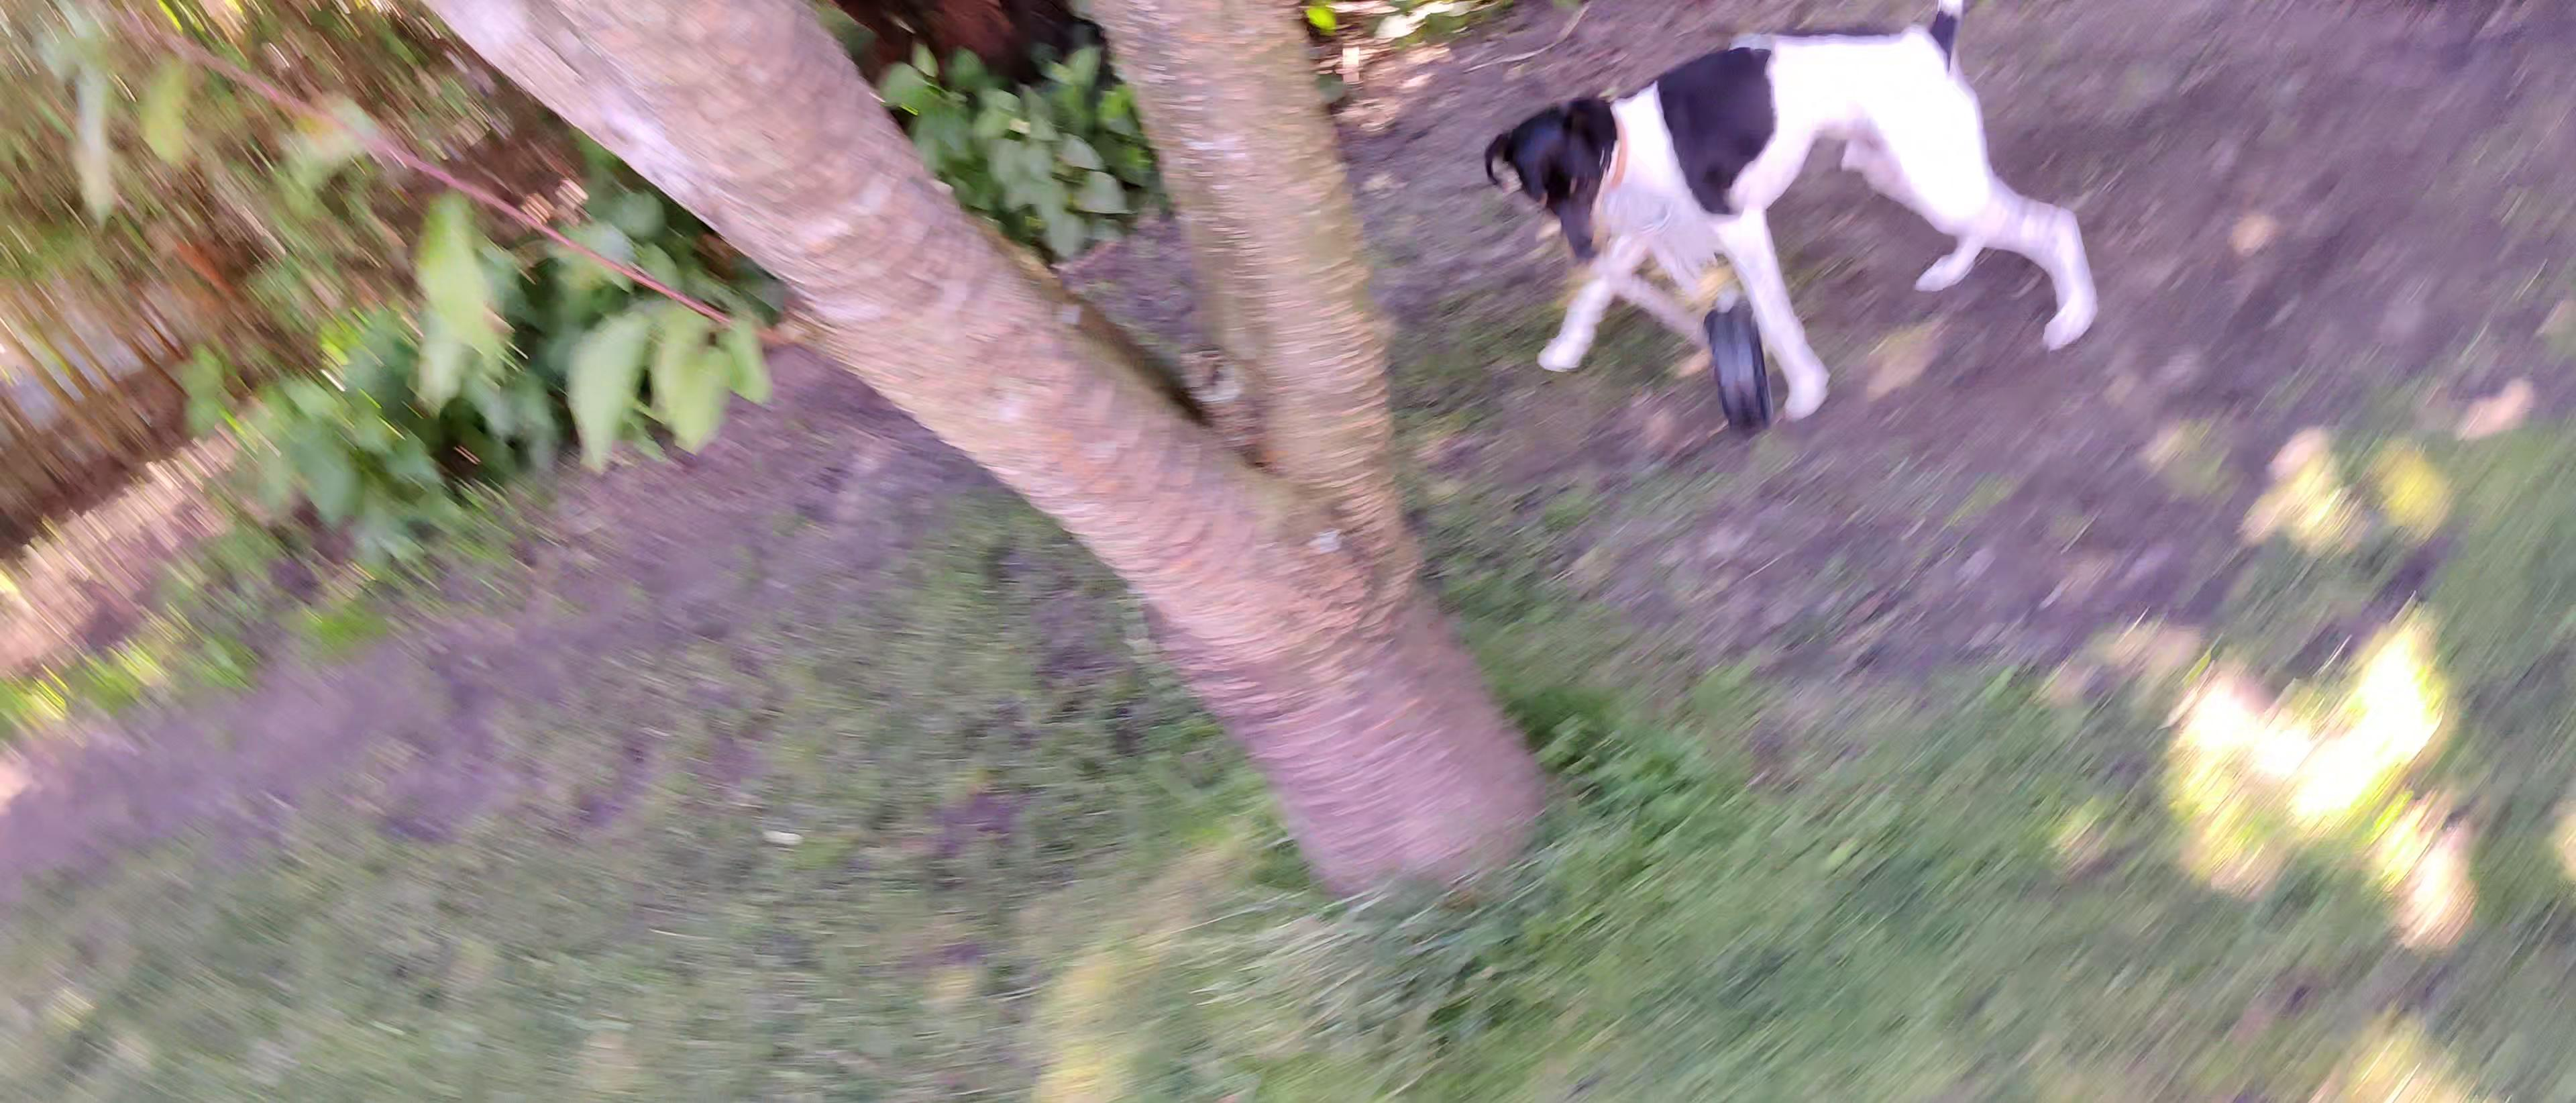Dog: (1475, 0, 2127, 424)
